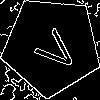V: (26, 21, 82, 76)
